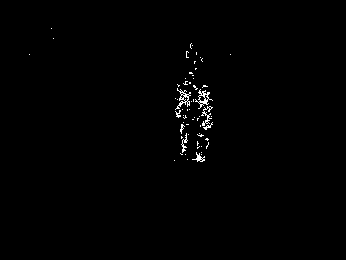person: (175, 70, 198, 156), (194, 83, 213, 165)
